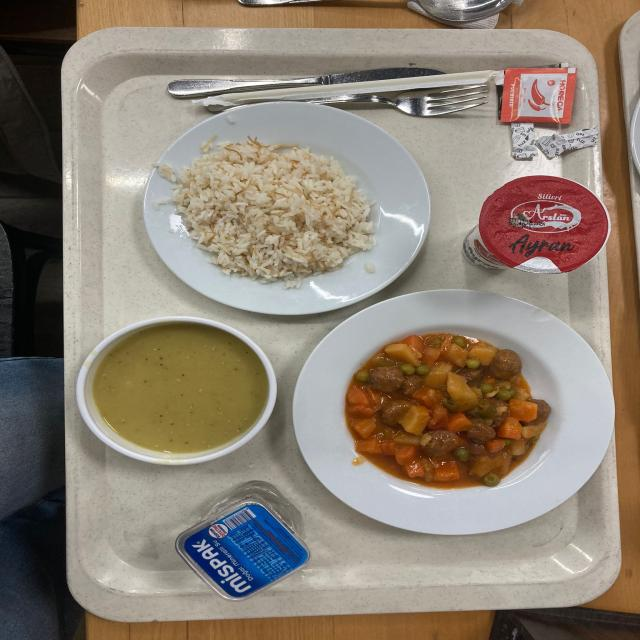ana_yemek: (297, 304, 593, 535), (144, 100, 426, 308)
corba: (75, 319, 275, 461)
